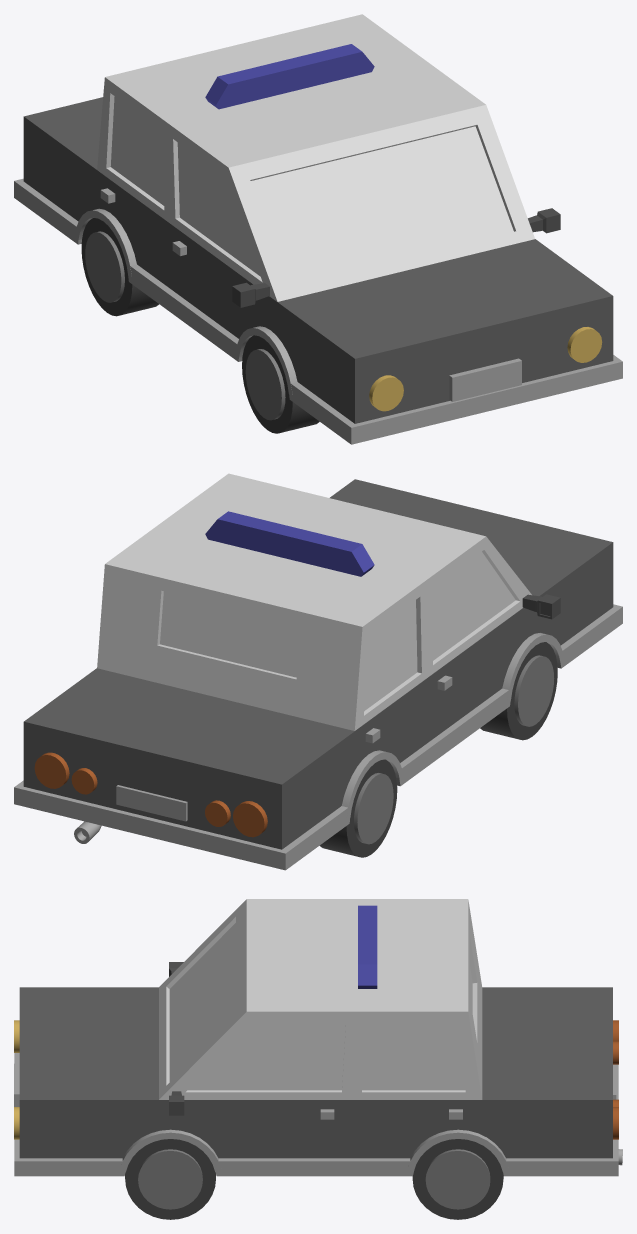
Rendered from voiture police.fbx.
3 renders of one model, top to bottom at view 1: azimuth 30°, elevation 25°; view 2: azimuth 150°, elevation 25°; view 3: azimuth 270°, elevation 25°, orthographic. The views are drawn at different scales.
Parts seen in each view (by area): view 1: pasted__pasted__pasted__pCube2save4voiture_jacky_v2; view 2: pasted__pasted__pasted__pCube2save4voiture_jacky_v2; view 3: pasted__pasted__pasted__pCube2save4voiture_jacky_v2.
Boxes of the visible parts, x1=… form: pasted__pasted__pasted__pCube2save4voiture_jacky_v2: x1=14, y1=14, x2=622, y2=444; pasted__pasted__pasted__pCube2save4voiture_jacky_v2: x1=14, y1=473, x2=622, y2=870; pasted__pasted__pasted__pCube2save4voiture_jacky_v2: x1=14, y1=899, x2=622, y2=1219.
Bounding box in the file's own units: 2.23 × 1.69 × 4.1.
